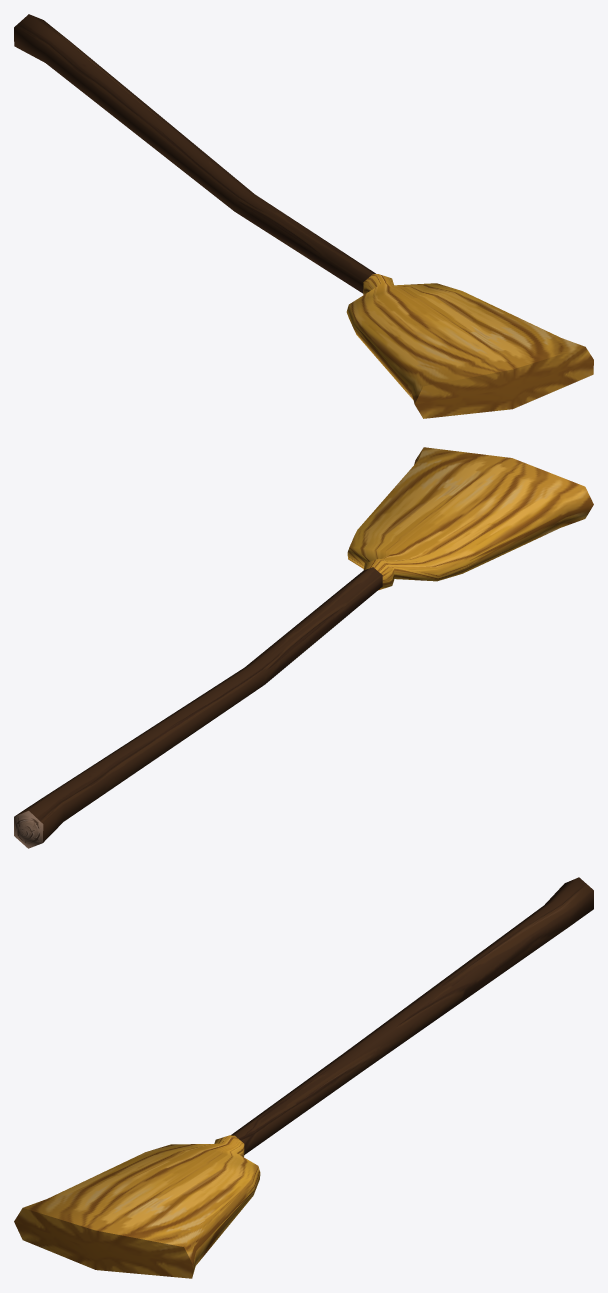
File: SM_PROP_broom_city.fbx
3 views of the same model, one above another, from view 1: azimuth 30°, elevation 25°; view 2: azimuth 150°, elevation 25°; view 3: azimuth 330°, elevation 25° (orthographic).
Visible parts, largest first — view 1: SM_PROP_broom_city; view 2: SM_PROP_broom_city; view 3: SM_PROP_broom_city.
Part boxes in pixels (x1,y1,x2,y2): SM_PROP_broom_city: (14, 14, 593, 418); SM_PROP_broom_city: (14, 447, 593, 848); SM_PROP_broom_city: (14, 877, 593, 1278).
Bounding box in the file's own units: 32.68 × 7.2 × 155.
